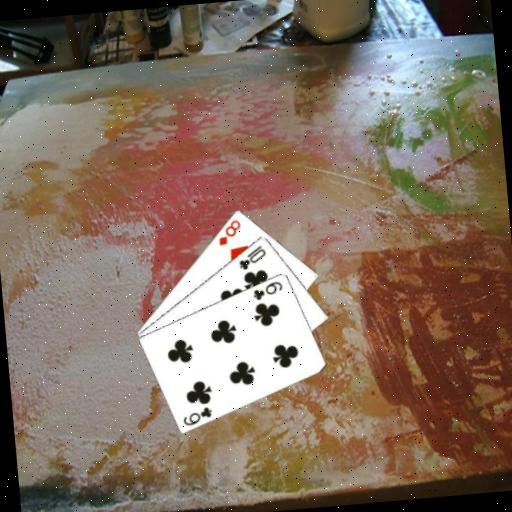10C: (235, 242, 269, 272)
6C: (179, 402, 215, 427), (249, 278, 285, 302)
8D: (214, 217, 244, 248)
